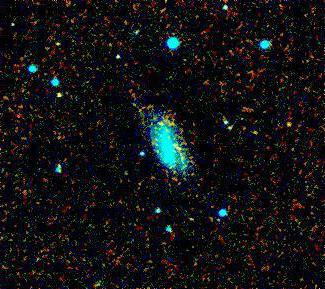star: (276, 109, 306, 139)
